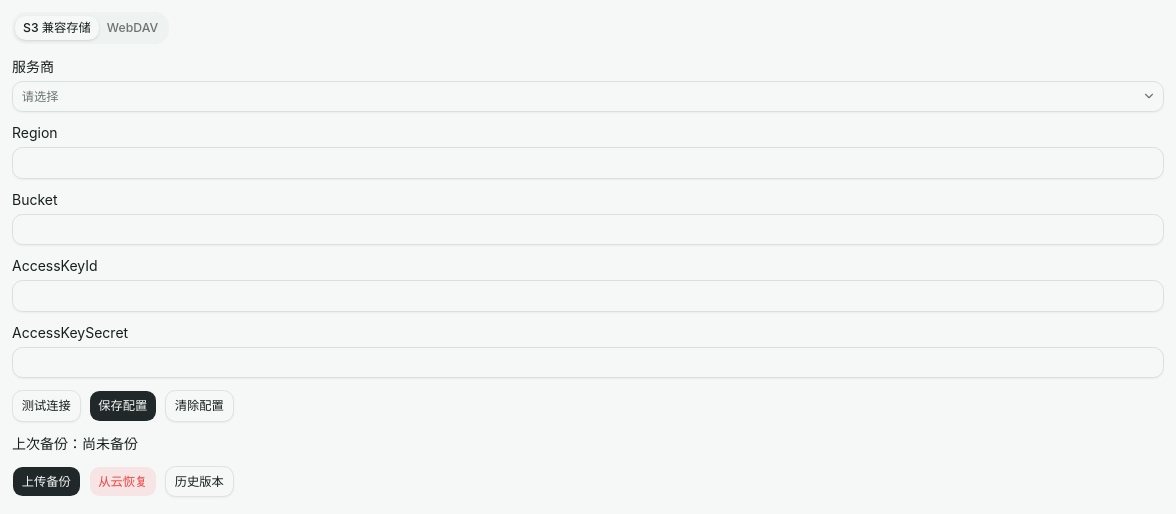
it: CloudBackupSection › 重新打开已保存的坚果云配置 → 完整回显且 Select 始终受控
What coordinates should you click on to do the following:
click the tab "WebDAV"
I would click on:
 (133, 28)
Its box is [99,16,166,40].
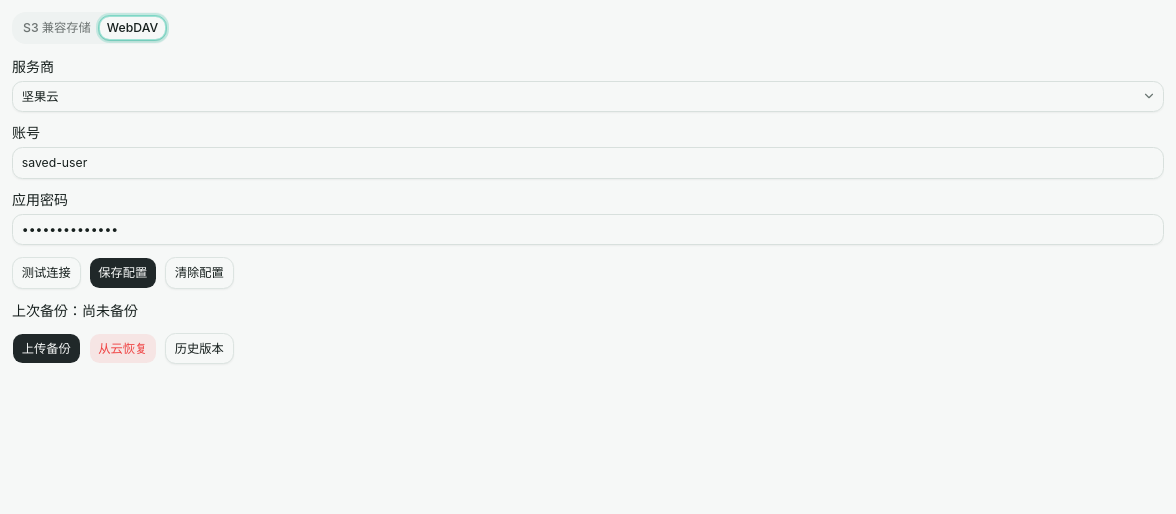
Check: the field showing "saved-user" is shown, box [12,147,1164,178]
Check: the password field showing "saved-password" is shown, box [12,214,1164,245]
Check: the dropdown shows "坚果云", box [12,80,1164,112]
